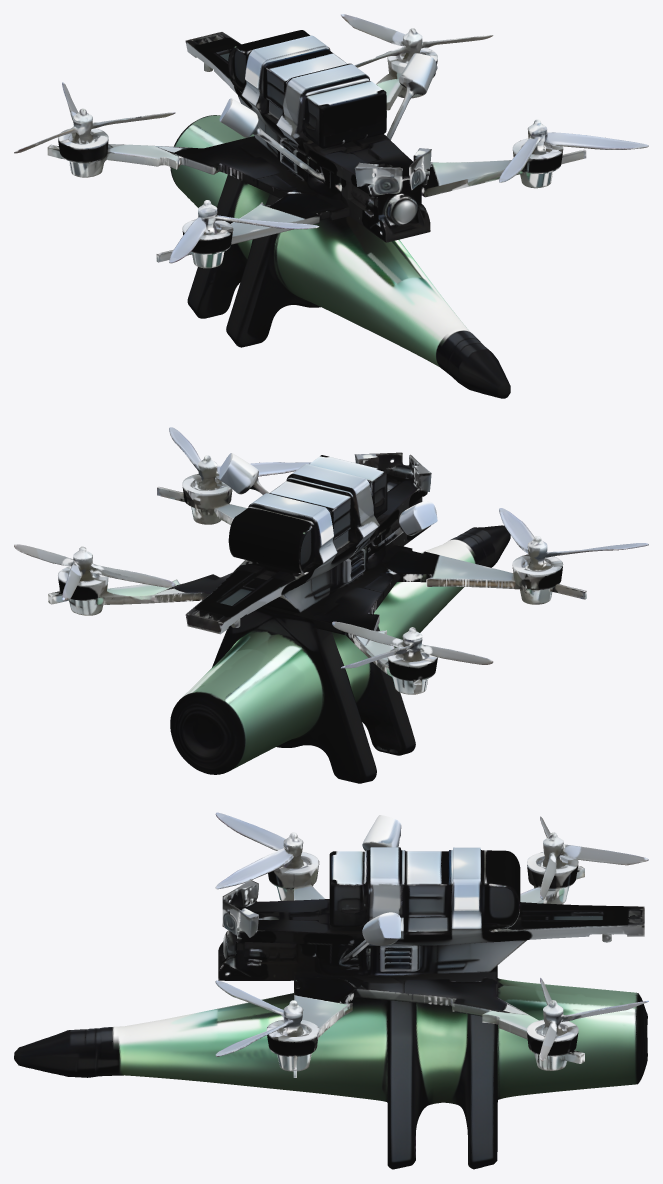
3 renders of one model, top to bottom at view 1: azimuth 30°, elevation 25°; view 2: azimuth 150°, elevation 25°; view 3: azimuth 270°, elevation 25°, orthographic. The views are drawn at different scales.
Visible parts, largest first — view 1: model; view 2: model; view 3: model.
Part boxes in pixels (x1,y1,x2,y2): model: [14, 14, 648, 398]; model: [14, 427, 648, 783]; model: [14, 812, 648, 1169].
Bounding box in the file's own units: 1.73 × 0.8755 × 1.9.
Materials: 1 (1 with a texture image).
